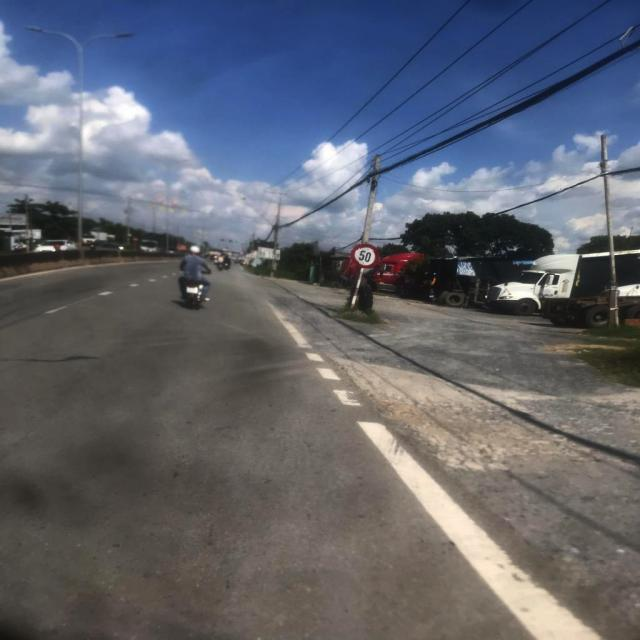toc_do_toi_da_50: (350, 242, 383, 268)
